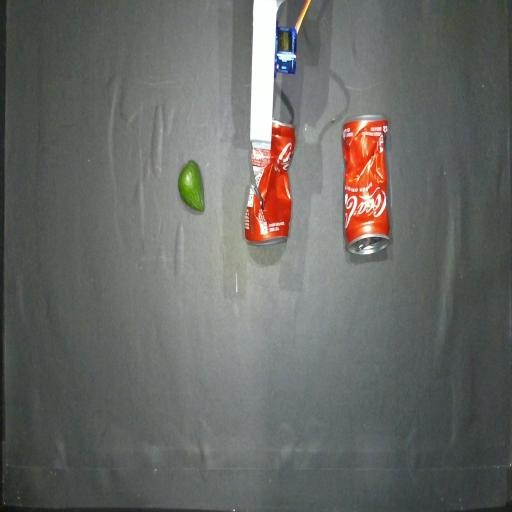higo: (178, 160, 204, 211)
lata_defectuoso: (342, 115, 390, 254), (245, 121, 295, 245)
